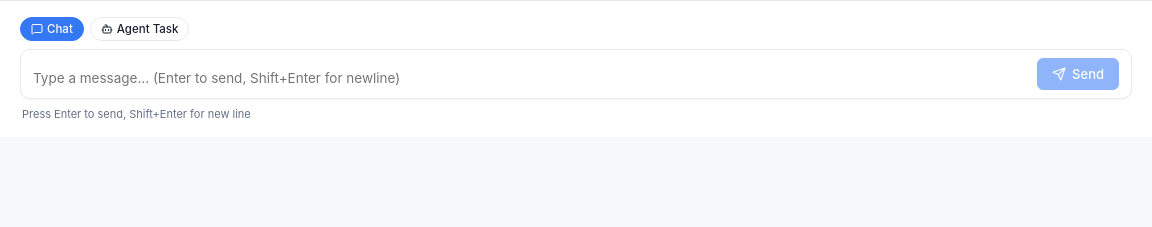
Scenario: Renderer: ConversationComposer (Agent Task Mode & Permissions) › enables workspace folder checkbox if bot has workspace tools
Click the button with test id "composer-mode-agent-btn": (140, 29) [90,17,190,41]
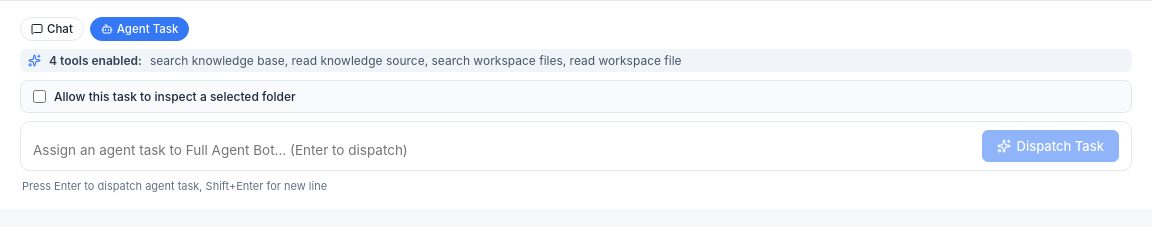
expect the checkbox with test id "workspace-access-checkbox" is enabled: met
expect the checkbox with test id "workspace-access-checkbox" is not checked: met
Click the checkbox with test id "workspace-access-checkbox": (40, 97) [33,90,46,103]
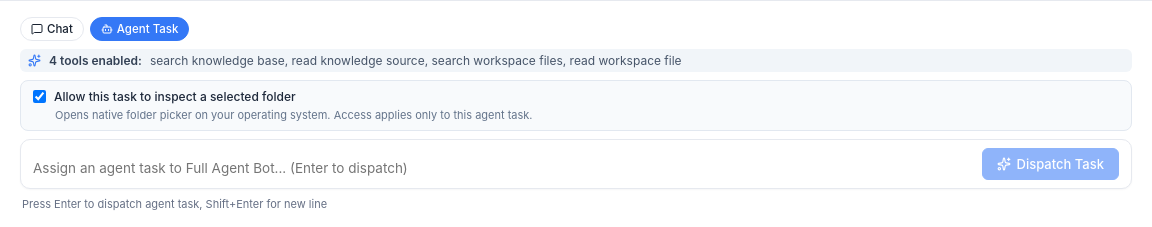
expect the checkbox with test id "workspace-access-checkbox" is checked: met, box [33,90,46,103]
